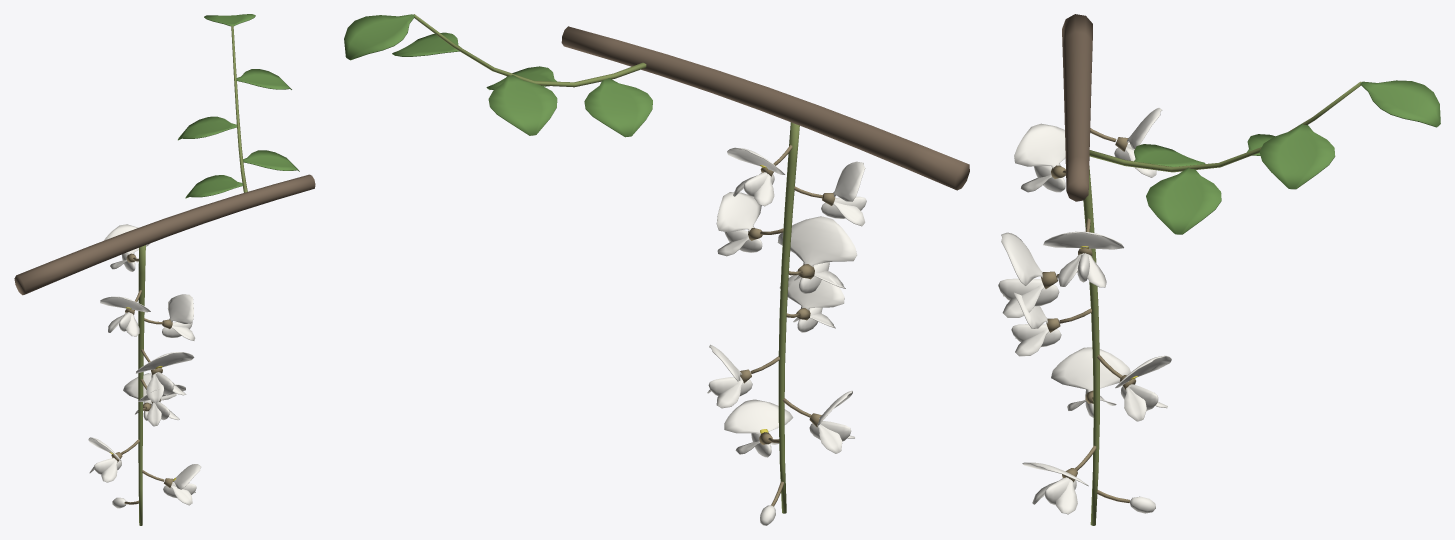
File: flower-robinia-low.glb
3 renders of one model, left to right at view 1: azimuth 30°, elevation 25°; view 2: azimuth 150°, elevation 25°; view 3: azimuth 270°, elevation 25°, orthographic. The views are drawn at different scales.
Parts seen in each view (by area): view 1: branch, raceme_flowers, leaves, raceme_axis, hero_petals, hero_wings; view 2: raceme_flowers, branch, leaves, raceme_axis, hero_petals; view 3: raceme_flowers, leaves, branch, raceme_axis, hero_petals, hero_keel_full, hero_wings.
Boxes of the visible parts, <box> form: branch: <box>14,174,315,295</box>; raceme_flowers: <box>88,224,201,508</box>; leaves: <box>178,14,299,198</box>; raceme_axis: <box>138,245,145,525</box>; hero_petals: <box>135,352,194,373</box>; hero_wings: <box>146,372,186,402</box>; raceme_flowers: <box>707,145,866,525</box>; branch: <box>561,26,969,190</box>; leaves: <box>344,14,652,137</box>; raceme_axis: <box>778,122,799,513</box>; hero_petals: <box>777,216,857,266</box>; raceme_flowers: <box>1011,108,1171,514</box>; leaves: <box>1089,80,1440,234</box>; branch: <box>1062,14,1092,201</box>; raceme_axis: <box>1083,166,1099,525</box>; hero_petals: <box>1001,232,1042,285</box>; hero_keel_full: <box>998,278,1059,306</box>; hero_wings: <box>1002,283,1044,317</box>.
Size of the model in its own units: 15.41 by 16.58 by 11.59.
